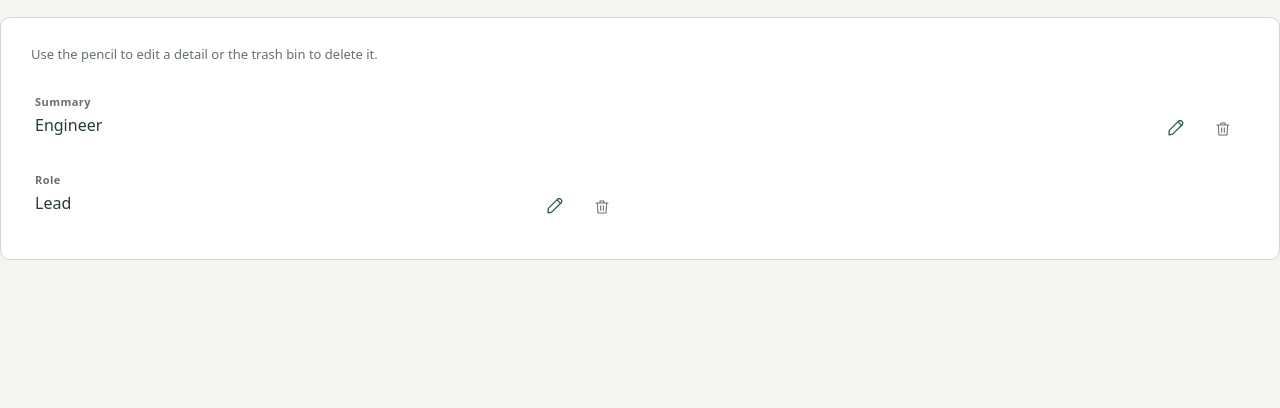
Test case: never lets undo overwrite a later accepted edit
Click the button named "Delete Role" at [602, 207], box [580, 185, 624, 229]
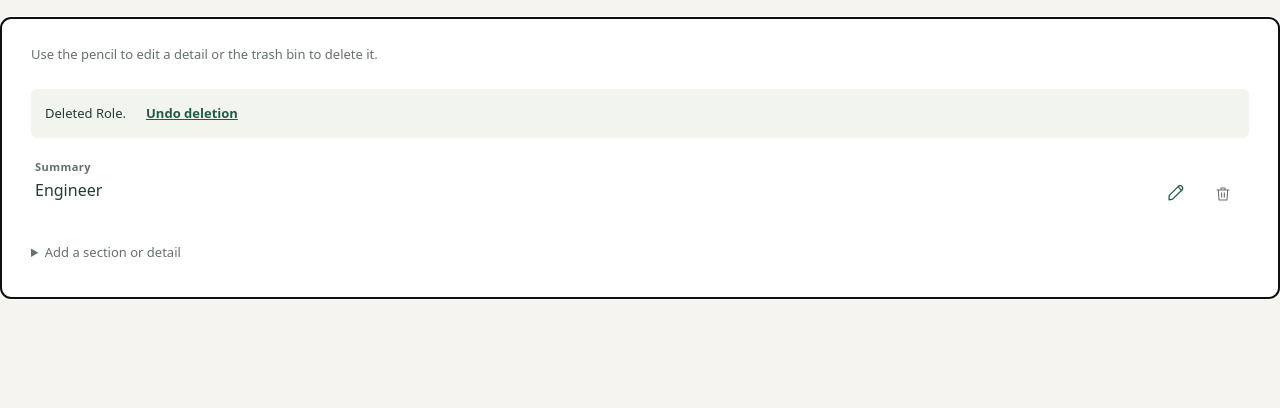
Click the button named "Edit Summary" at [1175, 194], box [1153, 172, 1197, 216]
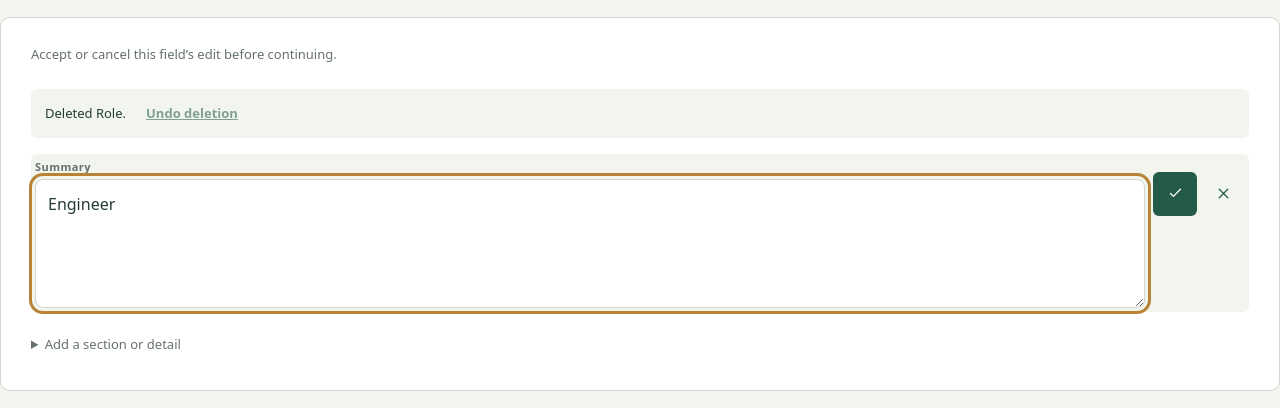
Result: the button "Undo deletion" is disabled at [138, 99, 246, 128]
Replace the text in the text box labelled "Summary" with "Updated engineer" at [590, 243], box [35, 179, 1145, 308]
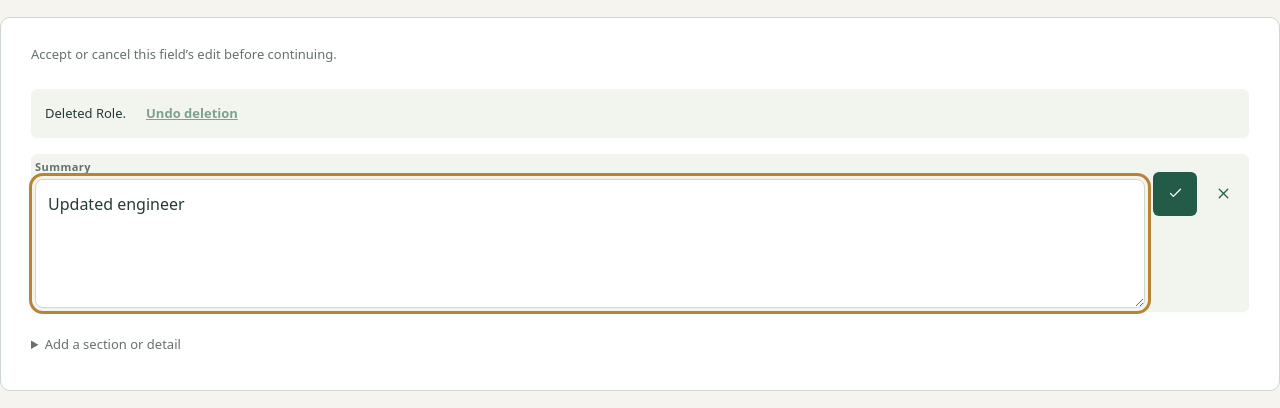
Click the button named "Accept Summary change" at [1175, 194], box [1153, 172, 1197, 216]
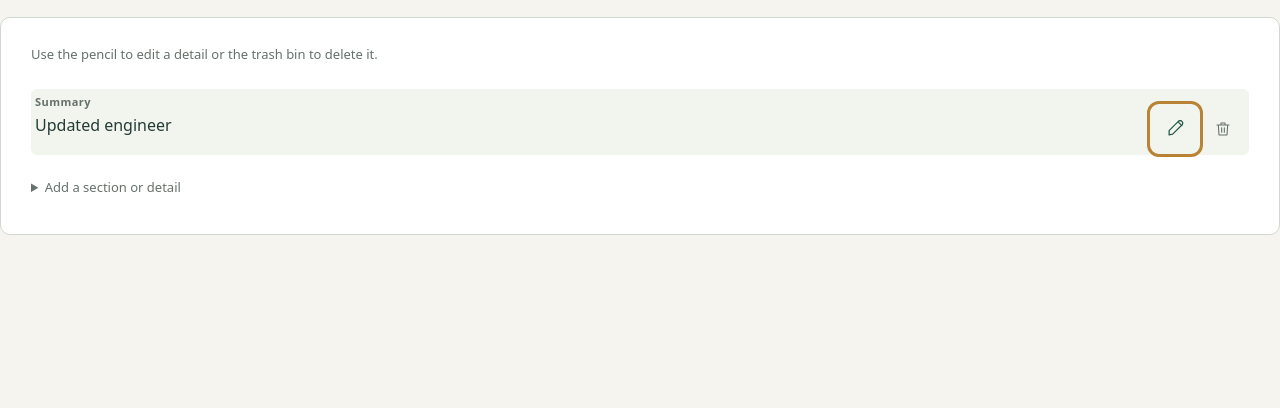
Result: the button "Undo deletion" is gone
